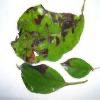Apple Scab Leaf: (8, 1, 93, 67), (17, 59, 68, 96), (60, 51, 95, 84)
